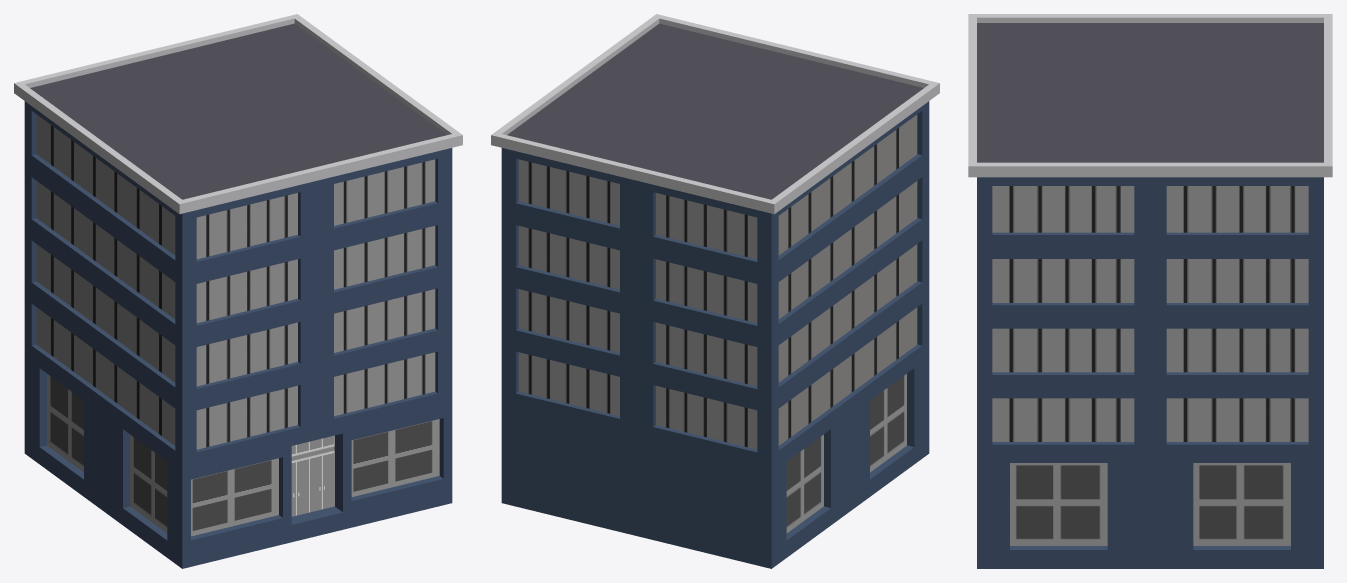
Rendered from building17a.FBX.
3 views of the same model, side by side, from view 1: azimuth 30°, elevation 25°; view 2: azimuth 150°, elevation 25°; view 3: azimuth 270°, elevation 25° (orthographic). The views are drawn at different scales.
Visible parts, largest first — view 1: building17a; view 2: building17a; view 3: building17a.
Part boxes in pixels (x1,y1,x2,y2): building17a: (14,14,462,568); building17a: (491,14,939,568); building17a: (968,14,1332,568).
Bounding box in the file's own units: 21.12 × 26.29 × 21.36.
